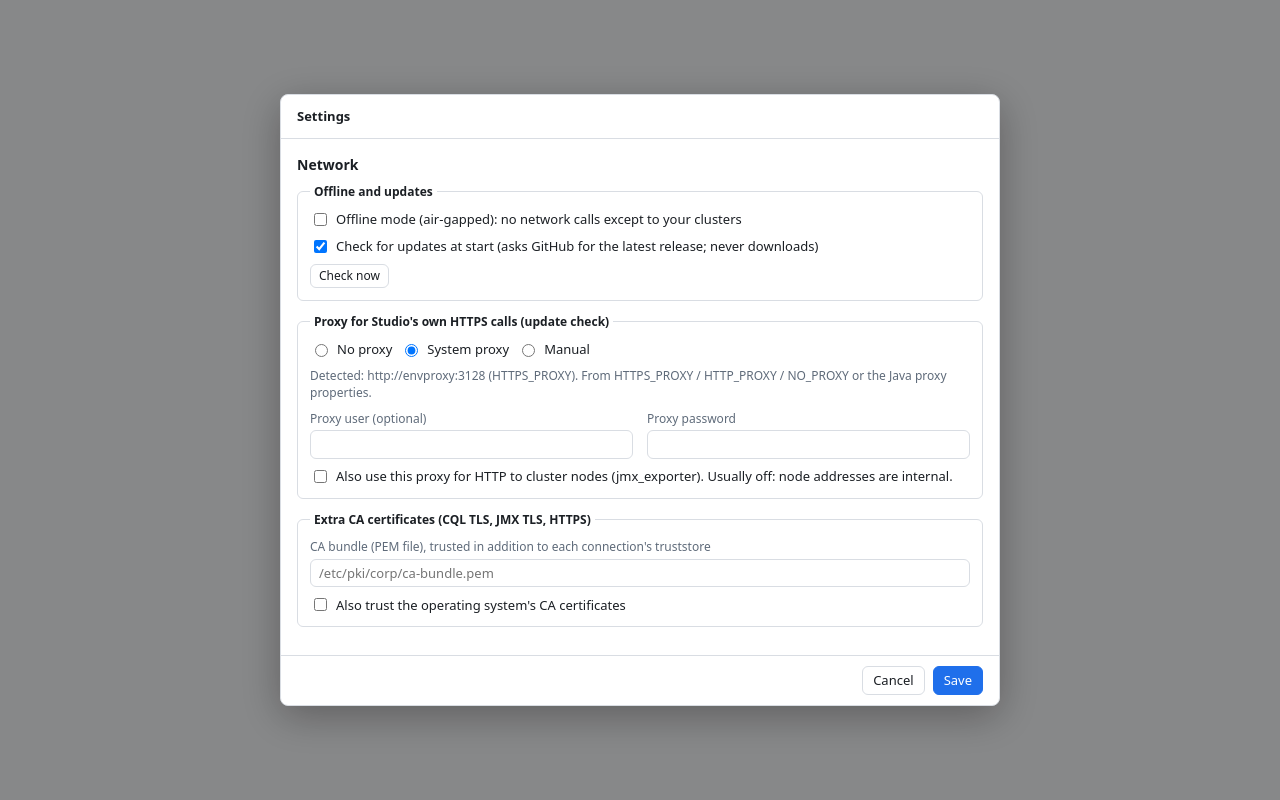
Test: SettingsDialog › offline mode disables the update check and the proxy; engine errors are shown
Click the checkbox labelled "Offline mode" at [320, 220], box top-left (314, 213), bottom-right (327, 226)
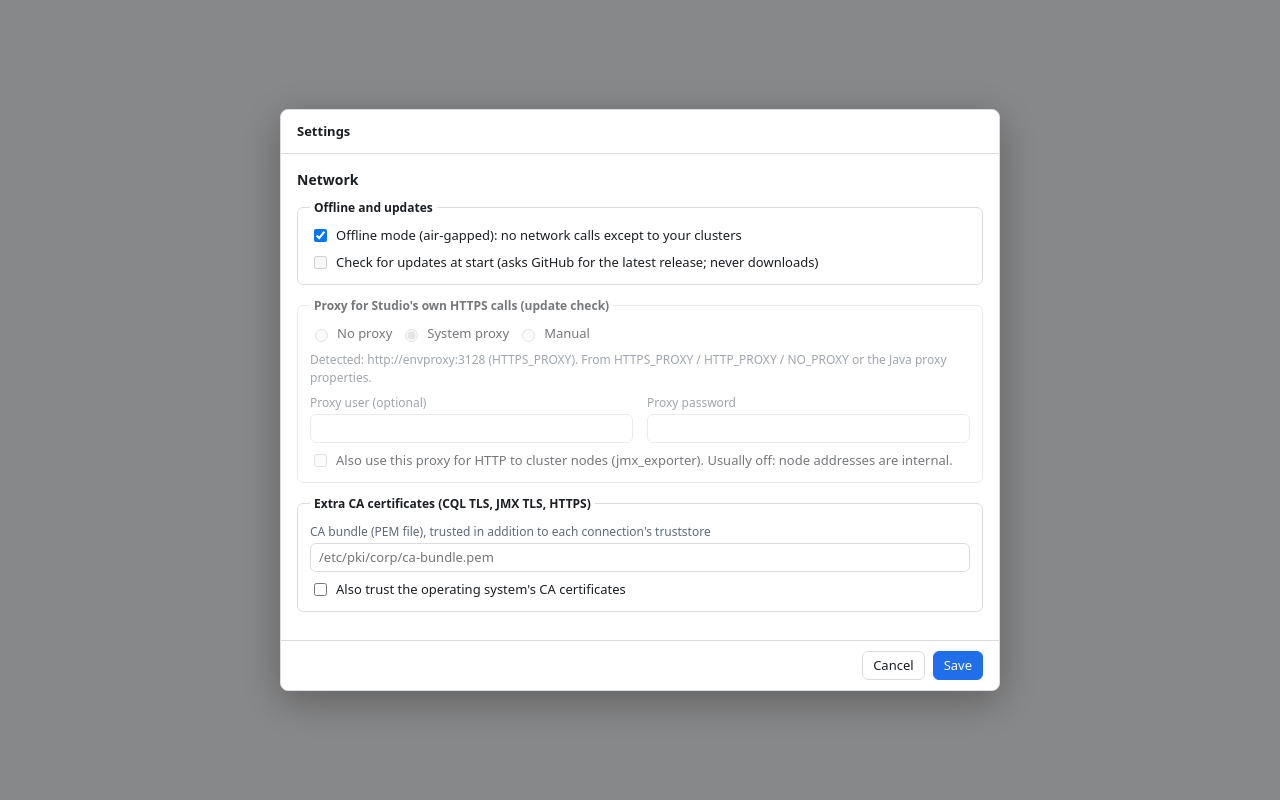
expect the checkbox labelled "Check for updates" is disabled: met, box top-left (314, 256), bottom-right (327, 269)
expect the checkbox labelled "Check for updates" is not checked: met, box top-left (314, 256), bottom-right (327, 269)
expect the element labelled "Manual" is disabled: met, box top-left (297, 297), bottom-right (983, 483)
Click the button "Save" at [958, 665], box top-left (933, 651), bottom-right (983, 680)
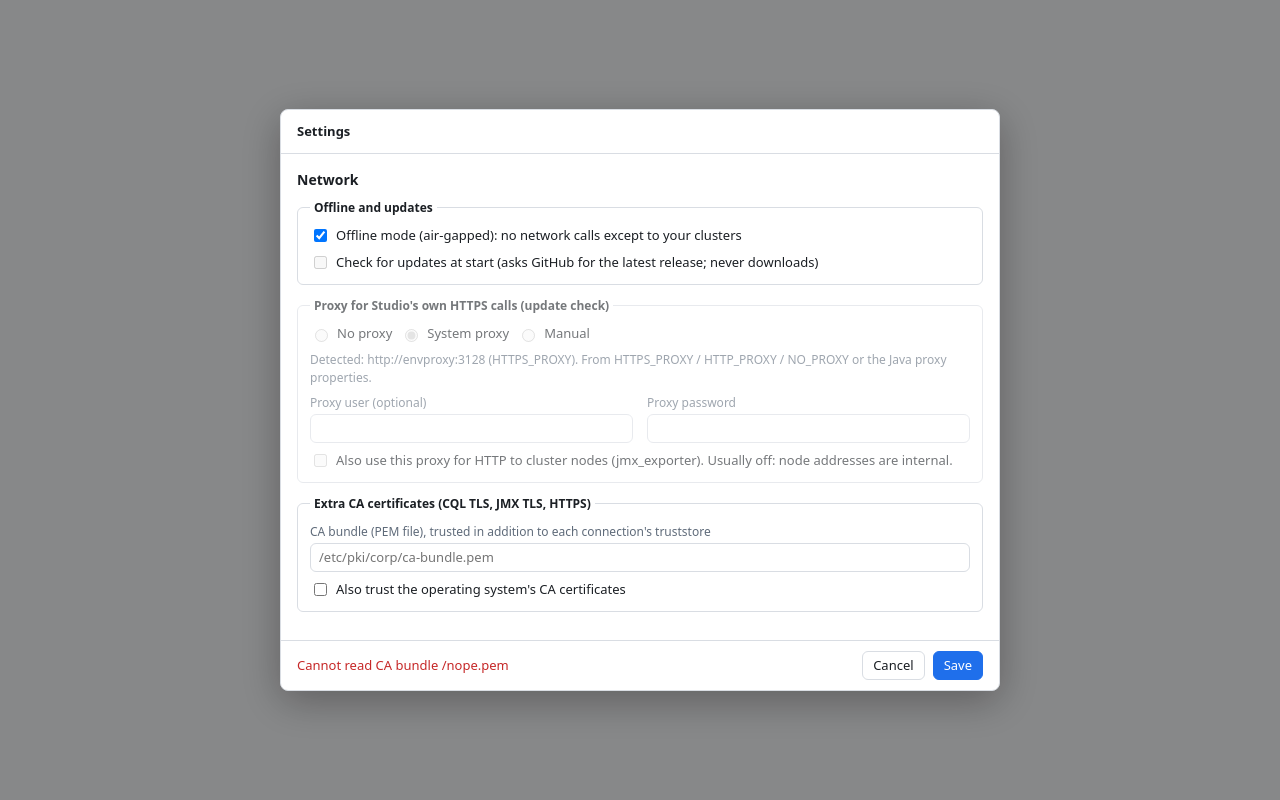
expect the message shows "Cannot read CA bundle": met, box top-left (297, 656), bottom-right (509, 674)
